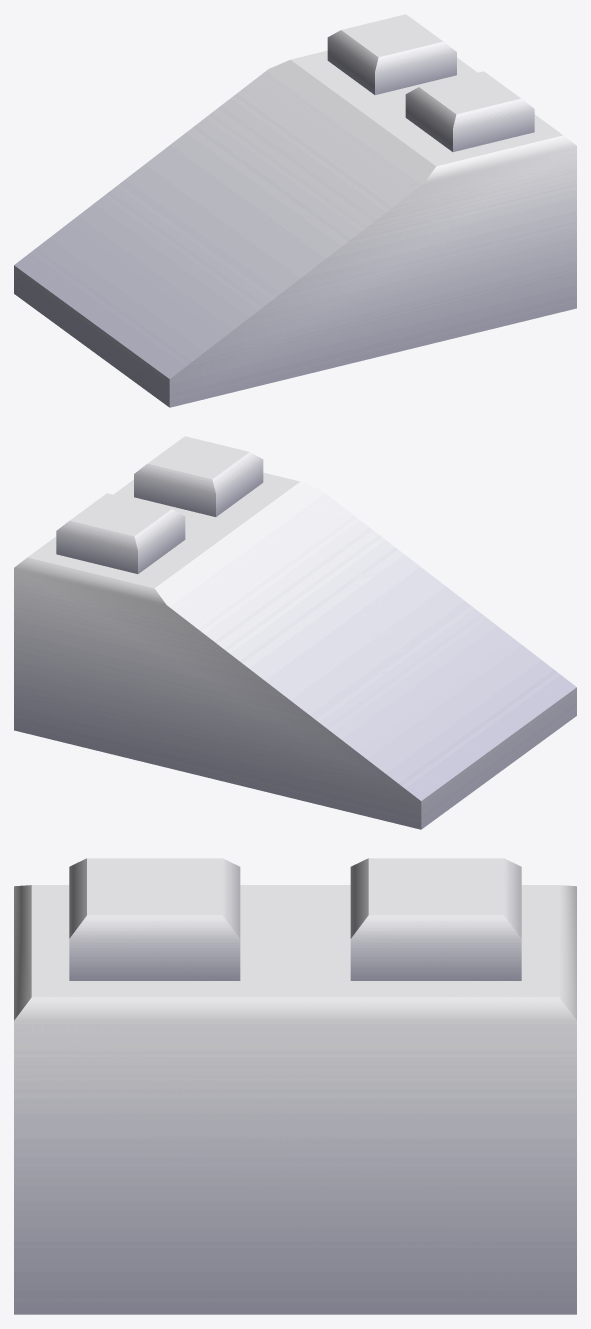
The model's file is brick-kit--square-hq-brick-slope-3x2.glb.
The picture shows the model from 3 angles, top to bottom: view 1: azimuth 30°, elevation 25°; view 2: azimuth 150°, elevation 25°; view 3: azimuth 270°, elevation 25°; orthographic projection. The views are drawn at different scales.
Parts seen in each view (by area): view 1: square-hq-brick-slope-3x2; view 2: square-hq-brick-slope-3x2; view 3: square-hq-brick-slope-3x2.
Boxes of the visible parts, x1,y1,x2,y2 form: square-hq-brick-slope-3x2: [14, 14, 576, 407]; square-hq-brick-slope-3x2: [14, 436, 576, 829]; square-hq-brick-slope-3x2: [14, 858, 576, 1314].
Size of the model in its own units: 0.2385 by 0.114 by 0.158.
1 material, 1 textured.
